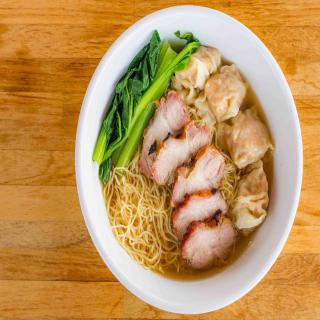carbs: (110, 171, 172, 262), (225, 164, 237, 206)
meat: (177, 160, 228, 262), (180, 48, 240, 117), (150, 103, 204, 173), (225, 117, 270, 165), (238, 171, 268, 234)
noodles: (101, 37, 269, 265)
veg: (104, 40, 172, 166)
